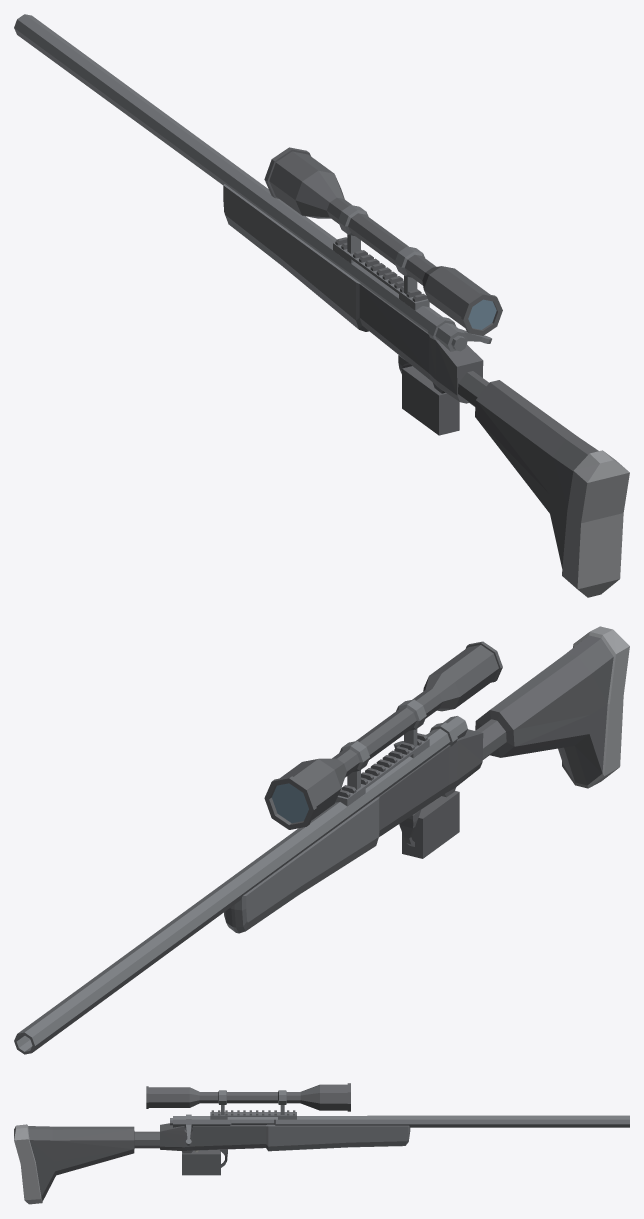
File: hunt_3.glb
The picture shows the model from 3 angles, top to bottom: view 1: azimuth 30°, elevation 25°; view 2: azimuth 150°, elevation 25°; view 3: azimuth 270°, elevation 25°; orthographic projection. The views are drawn at different scales.
Visible parts, largest first — view 1: body, mag; view 2: body, mag; view 3: body, mag.
Part boxes in pixels (bbox=[...]): body: bbox=[14, 14, 629, 597]; mag: bbox=[402, 366, 459, 435]; body: bbox=[14, 626, 629, 1054]; mag: bbox=[402, 791, 459, 858]; body: bbox=[14, 1083, 629, 1204]; mag: bbox=[182, 1149, 220, 1175].
Size of the model in its own units: 0.0726 by 0.213 by 1.
